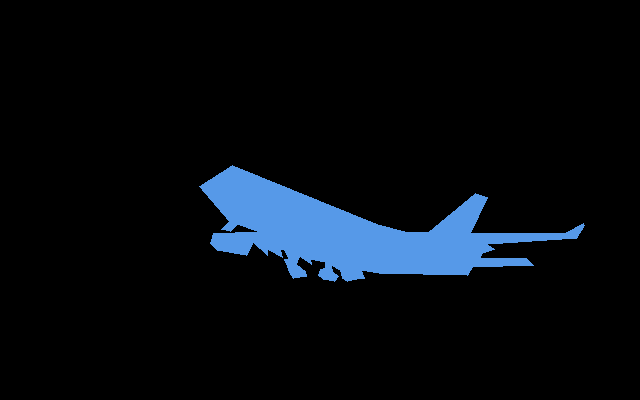Airplane: (199, 165, 585, 281)
